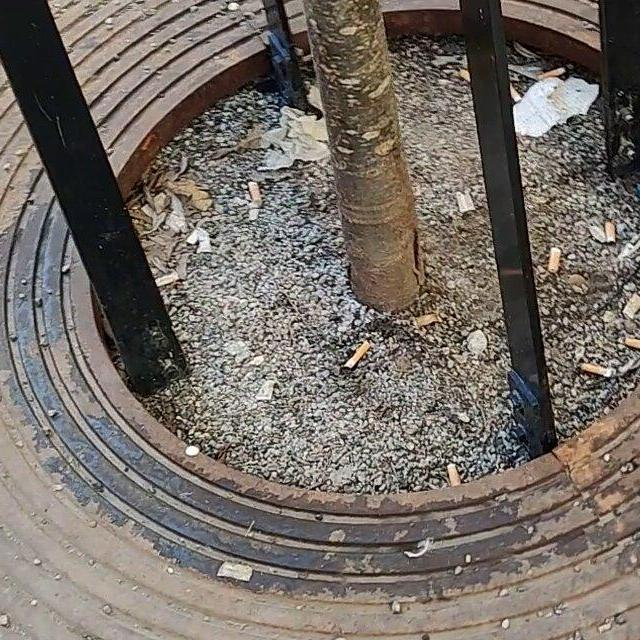Cigarette Butt: (341, 338, 369, 375), (571, 362, 613, 382), (447, 453, 463, 489), (155, 267, 187, 285), (546, 250, 563, 280), (244, 178, 263, 199), (624, 337, 640, 355), (604, 217, 616, 238)
